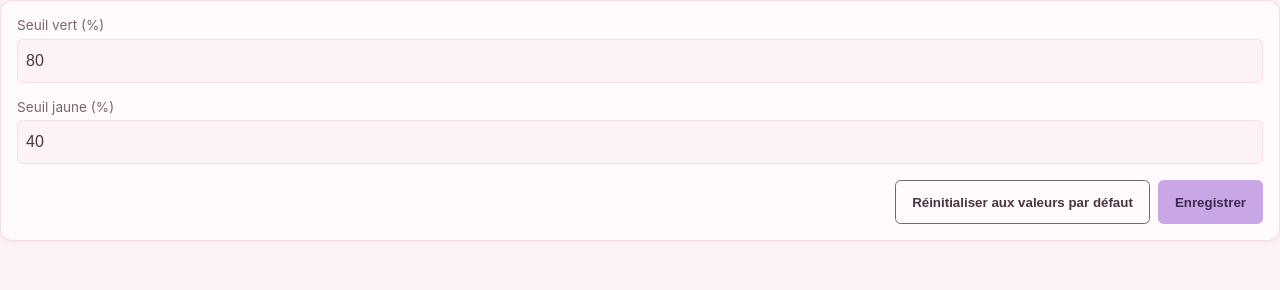
ColorThresholdsForm (US-006) › bloque et signale une valeur hors de 0-100 (scénario 3)
The image size is (1280, 290).
Replace the text in the number field labelled "Seuil vert (%)" with "150" at (640, 61), box 17,39 -> 1263,83
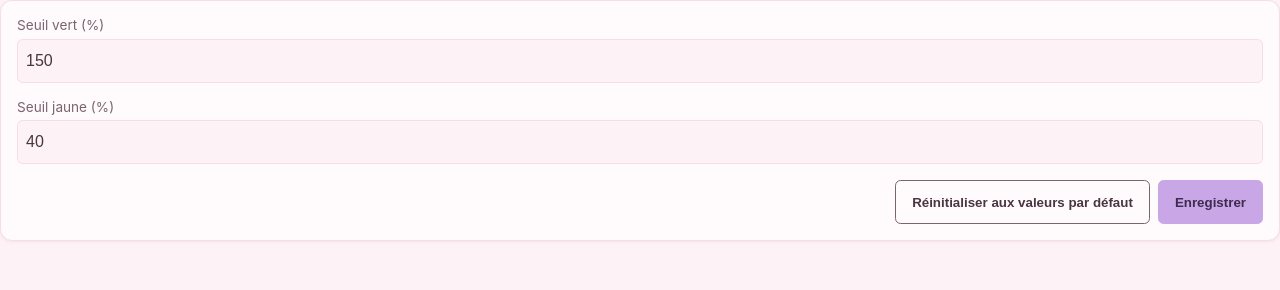
Click the button "Enregistrer".
click(1210, 202)  # box 1158,180 -> 1263,224
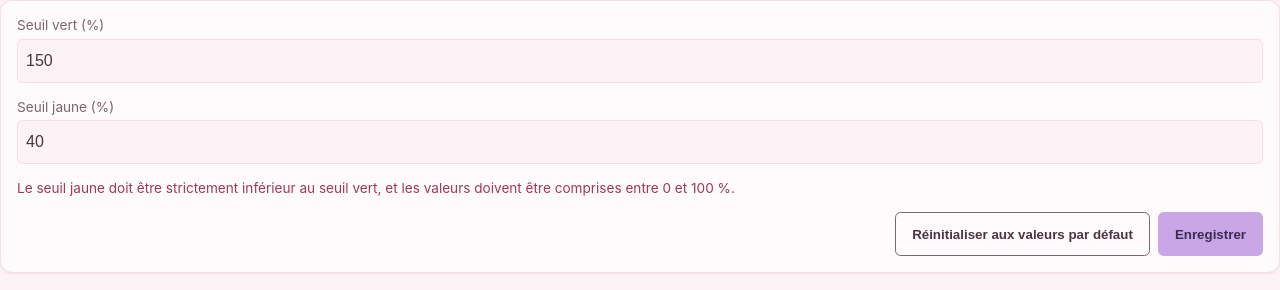
Expected: the message shows "comprises entre 0 et 100 %", 17,180 -> 735,196
